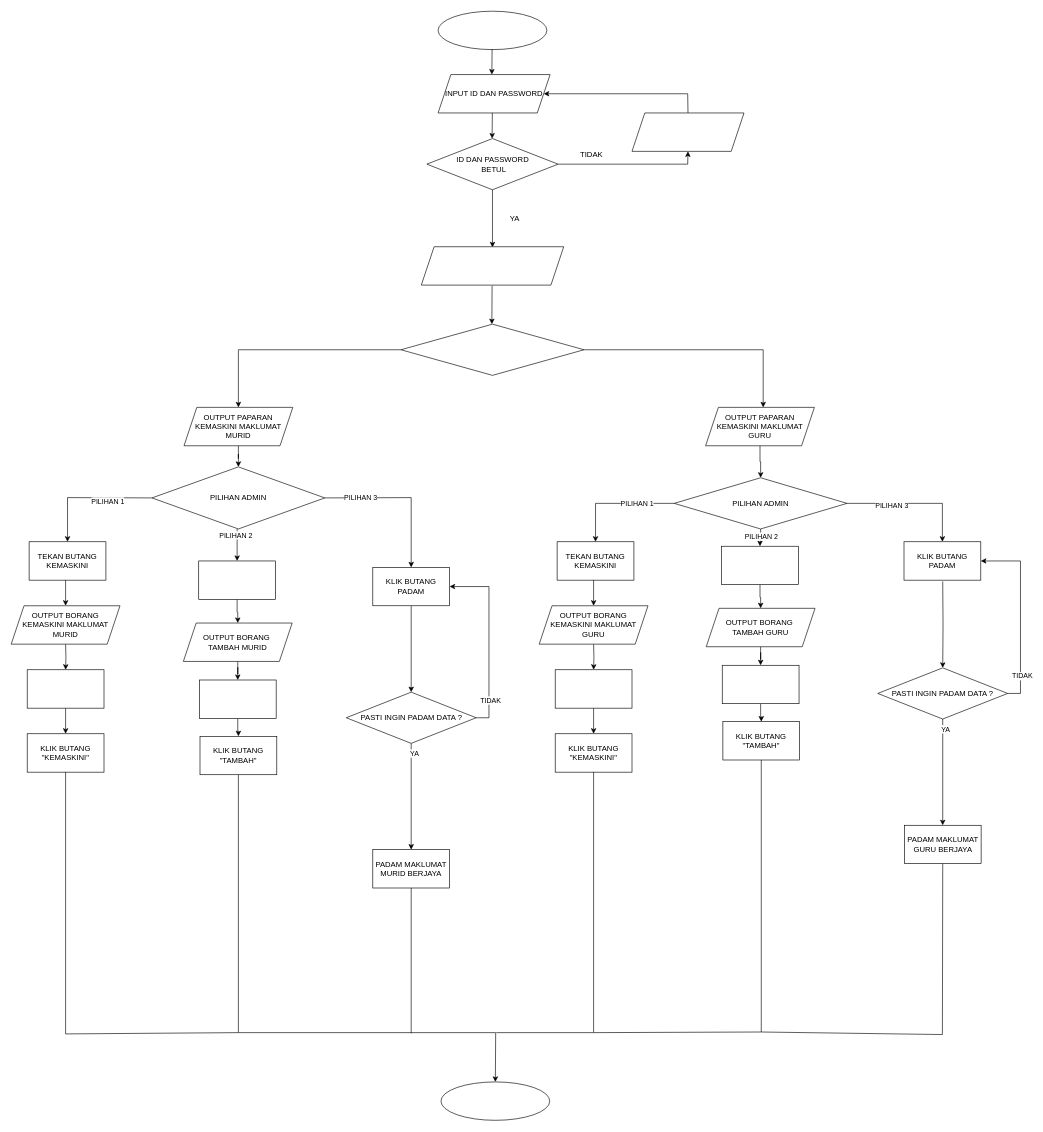
This 1043x1132 diagram has some shape labels left out. Here are the shapes that lost their labels. From the top down, the centre of each, then its label:
(492,30): MULA
(687,131): OUTPUT "SALAH ID ATAU PASSWORD"
(492,265): OUTPUT PAPARAN DASHBOARD ADMIN
(492,349): PENGURUSAN MAKLUMAT MURID ATAU GURU
(237,579): KLIK BUTANG TAMBAH MURID
(759,565): KLIK BUTANG TAMBAH GURU
(65,688): MENGISI BORANG KEMASKINI MAKLUMAT MURID
(237,698): MENGISI BORANG TAMBAH MAKLUMAT MURID
(593,688): MENGISI BORANG KEMASKINI GURU
(760,684): MENGISI BORANG TAMBAH MAKLUMAT GURU
(495,1100): TAMAT
